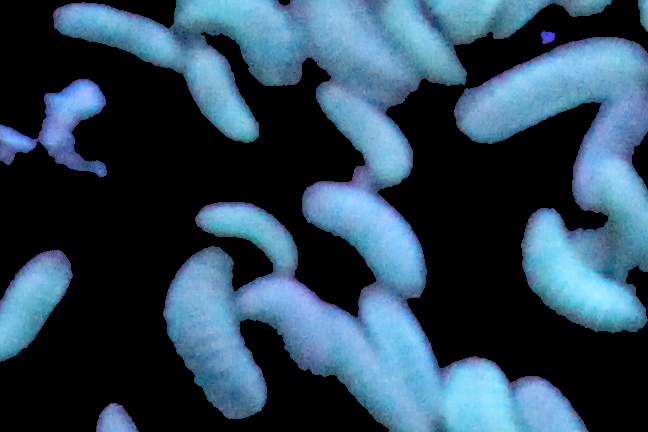larvae: (460, 34, 648, 139), (166, 245, 265, 417), (522, 206, 646, 331), (301, 179, 428, 301), (324, 295, 429, 432), (298, 1, 424, 104), (356, 288, 445, 416), (181, 1, 306, 85), (240, 273, 335, 372), (314, 84, 410, 178), (1, 249, 73, 369), (197, 197, 298, 282), (54, 3, 184, 68), (183, 40, 260, 144), (374, 1, 465, 82), (576, 101, 648, 194), (438, 350, 510, 432), (598, 162, 648, 277), (511, 364, 589, 432)
